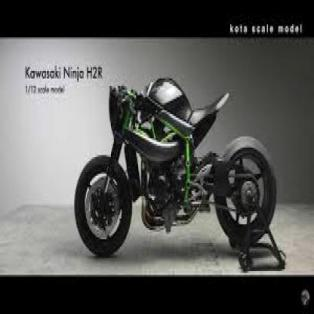Motocicleta: (66, 80, 284, 263)
